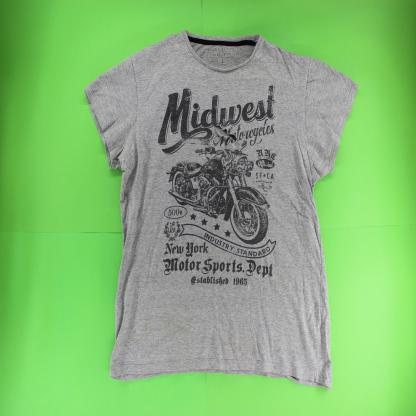hole: (213, 123, 240, 145)
